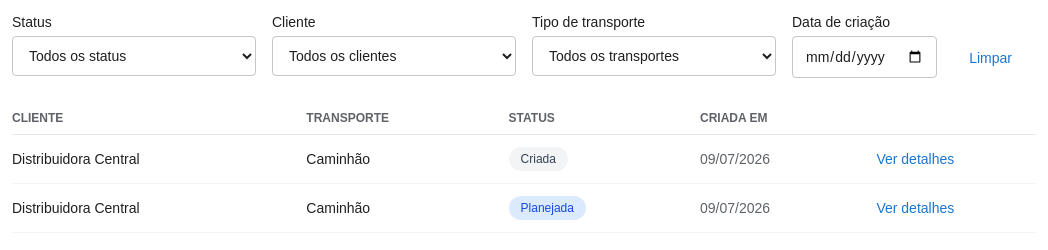
Test: MonitoringScreen › filtra a lista de ordens de venda ao selecionar um status
Expected: the text "Distribuidora Central" is shown 2 times, [12, 134, 306, 184]; [12, 184, 306, 232]
Select "Planejada" in the dropdown labelled "Status" at (134, 56), box [12, 36, 256, 76]
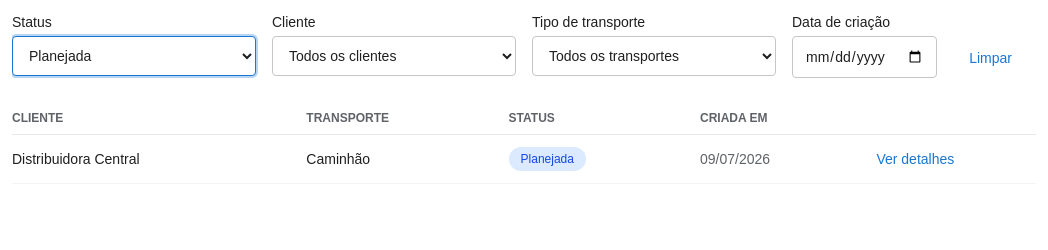
Result: the text "Distribuidora Central" is shown once at [12, 134, 306, 184]
